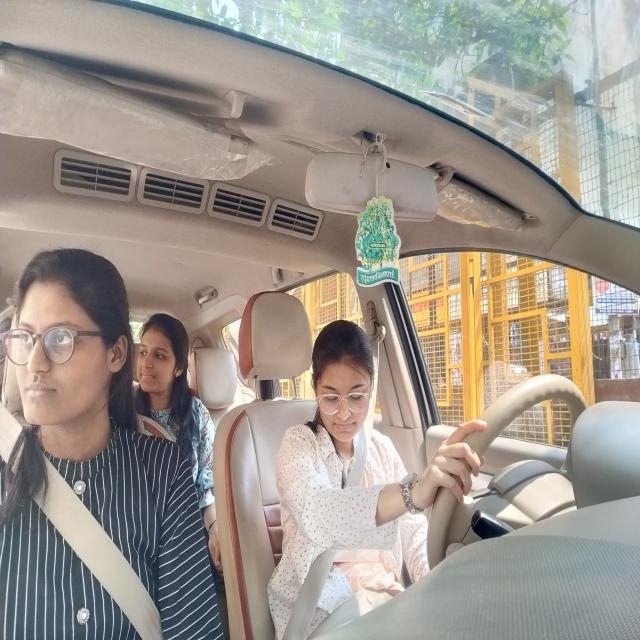drowsy: (310, 314, 380, 452)
person: (5, 247, 131, 452), (135, 306, 192, 416)
